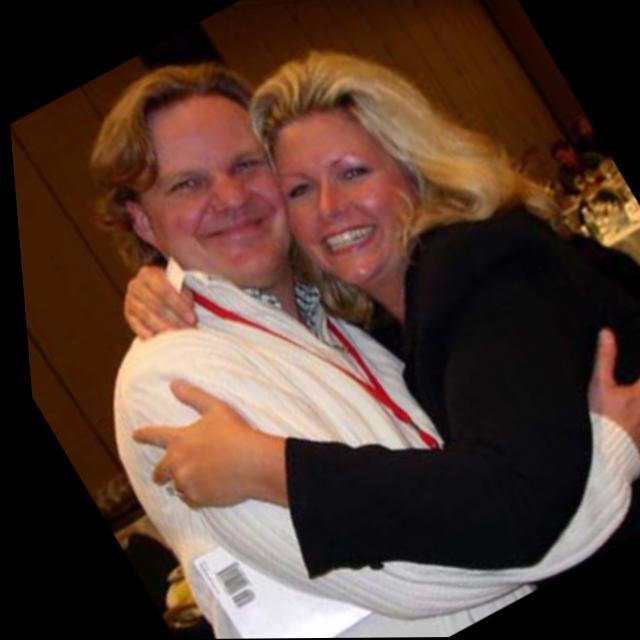Nonhelmet: (87, 52, 299, 296), (256, 36, 442, 313)
